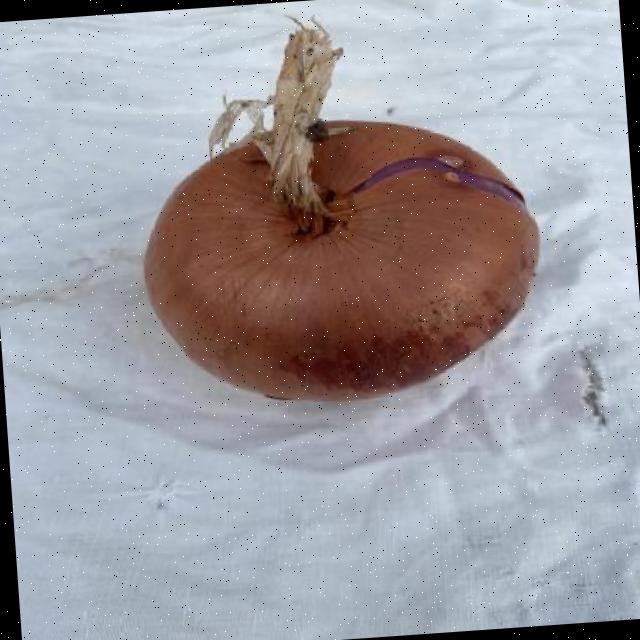Onion: (144, 23, 540, 400)
